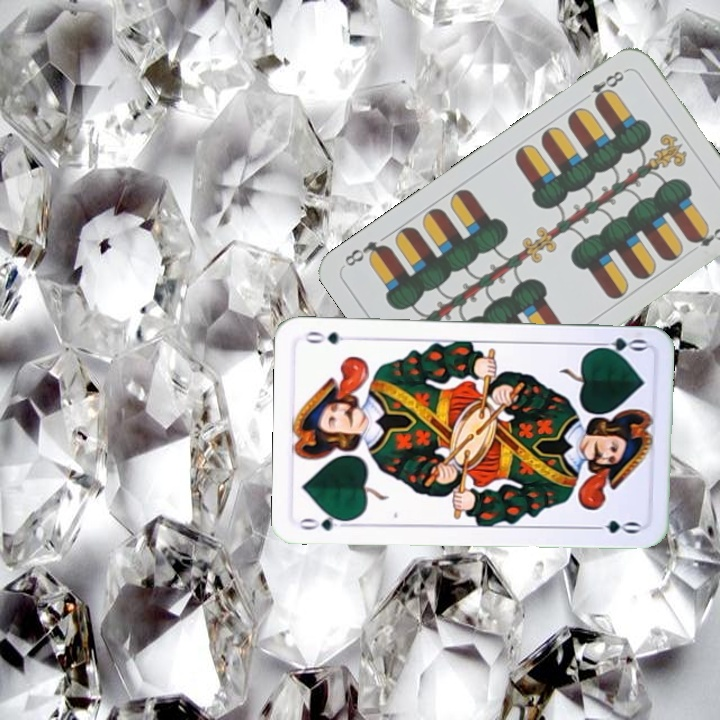E8: (578, 65, 630, 108)
GO: (296, 509, 355, 533), (589, 334, 648, 355)
